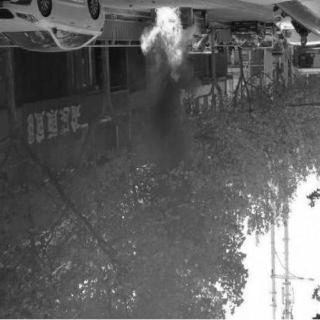Fire: (138, 5, 184, 86)
Smoke: (136, 92, 188, 172)
